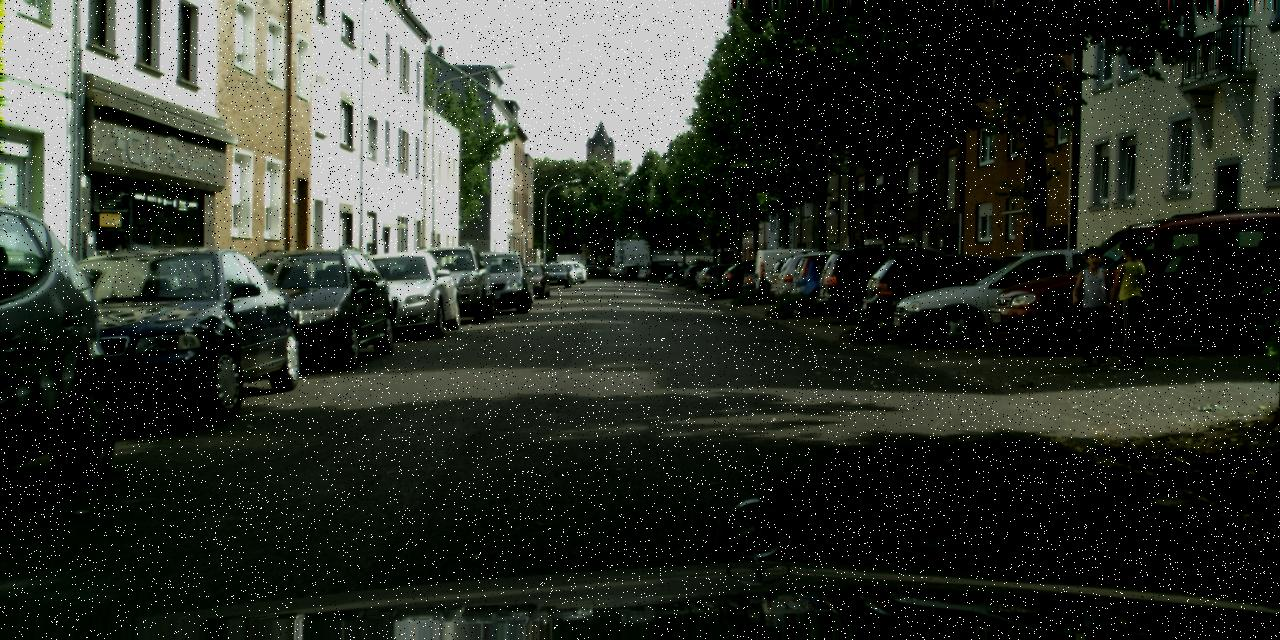ped: (1105, 238, 1157, 367), (1070, 245, 1118, 364)
